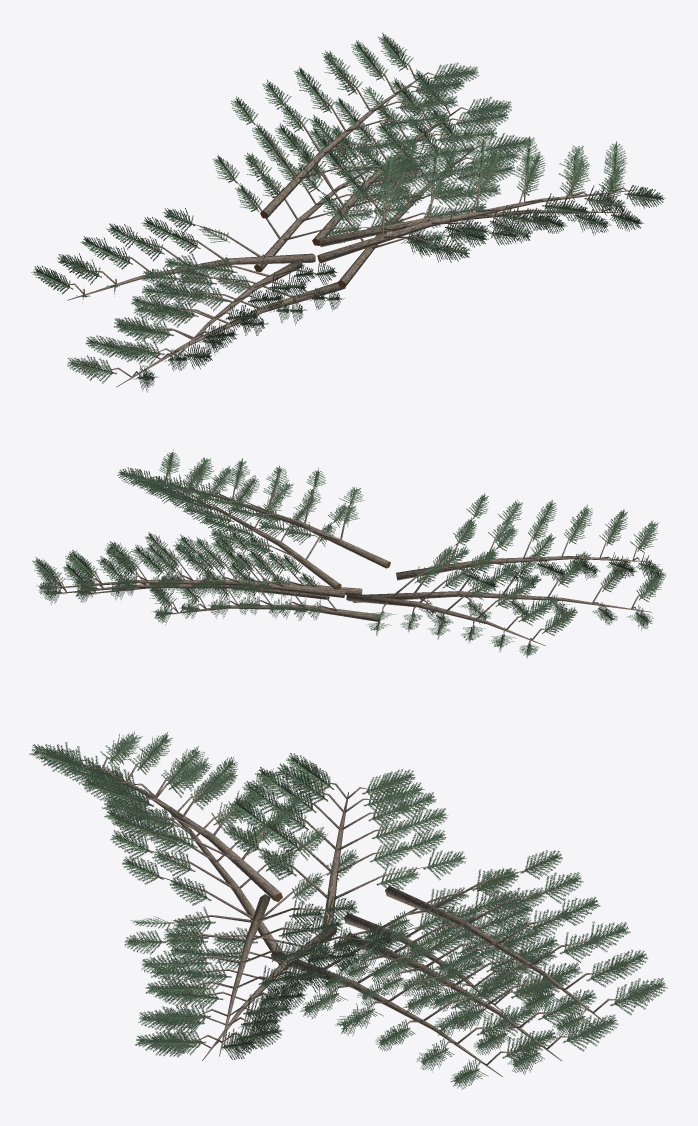
Rendered from SS_Brash_Green_02_LOD1.fbx.
The picture shows the model from 3 angles, top to bottom: view 1: azimuth 30°, elevation 25°; view 2: azimuth 150°, elevation 25°; view 3: azimuth 270°, elevation 25°; orthographic projection. The views are drawn at different scales.
Visible parts, largest first — view 1: SS_Brash_Green_02_LOD1_Foliage, SS_Brash_Green_02_LOD1_Structure; view 2: SS_Brash_Green_02_LOD1_Foliage, SS_Brash_Green_02_LOD1_Structure; view 3: SS_Brash_Green_02_LOD1_Foliage, SS_Brash_Green_02_LOD1_Structure.
Part boxes in pixels (<box>): SS_Brash_Green_02_LOD1_Foliage: <box>31,32,665,392</box>; SS_Brash_Green_02_LOD1_Structure: <box>65,61,634,387</box>; SS_Brash_Green_02_LOD1_Foliage: <box>32,449,666,657</box>; SS_Brash_Green_02_LOD1_Structure: <box>42,471,652,645</box>; SS_Brash_Green_02_LOD1_Foliage: <box>29,731,667,1089</box>; SS_Brash_Green_02_LOD1_Structure: <box>76,757,623,1076</box>.
Bounding box in the file's own units: 669 × 133 × 532.
